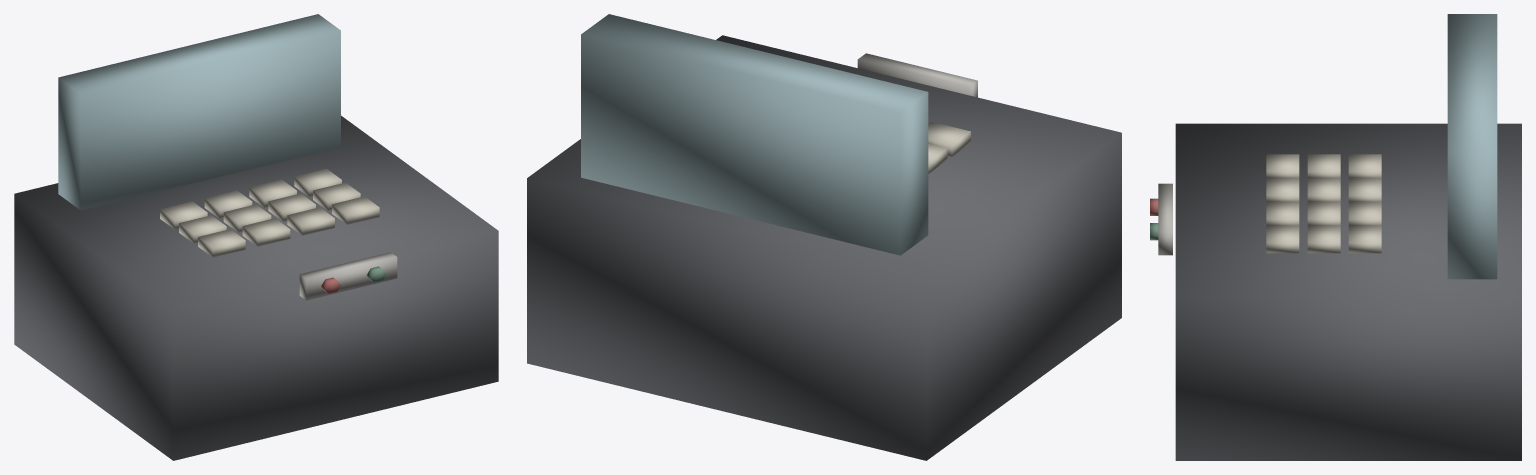
Rendered from cash_register__wide.glb.
3 views of the same model, side by side, from view 1: azimuth 30°, elevation 25°; view 2: azimuth 150°, elevation 25°; view 3: azimuth 270°, elevation 25° (orthographic). The views are drawn at different scales.
Parts seen in each view (by area): view 1: world; view 2: world; view 3: world.
Part boxes in pixels (left/top/right/bottom): world: left=14, top=14, right=498, bottom=460; world: left=527, top=14, right=1121, bottom=460; world: left=1150, top=14, right=1521, bottom=460.
Bounding box in the file's own units: 0.496 × 0.39 × 0.451.
